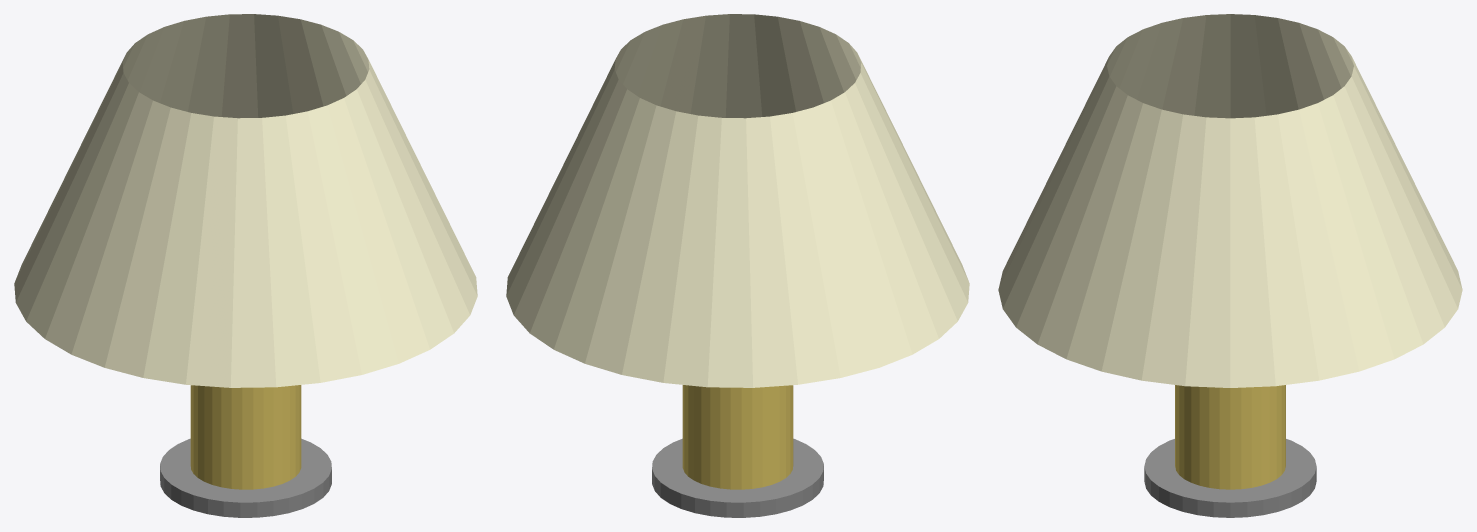
Rendered from lamp.glb.
3 views of the same model, side by side, from view 1: azimuth 30°, elevation 25°; view 2: azimuth 150°, elevation 25°; view 3: azimuth 270°, elevation 25° (orthographic).
Visible parts, largest first — view 1: Cylinder, Cylinder.001, Cylinder.002; view 2: Cylinder, Cylinder.001, Cylinder.002; view 3: Cylinder, Cylinder.001, Cylinder.002.
Boxes of the visible parts, box(x1,y1,x2,y2) form: Cylinder: box(14, 14, 477, 387); Cylinder.001: box(190, 385, 301, 489); Cylinder.002: box(160, 438, 331, 517); Cylinder: box(506, 14, 969, 387); Cylinder.001: box(682, 385, 793, 489); Cylinder.002: box(652, 438, 823, 517); Cylinder: box(998, 14, 1462, 387); Cylinder.001: box(1175, 385, 1285, 489); Cylinder.002: box(1144, 439, 1316, 517).
Bounding box in the file's own units: 3.76 × 3.71 × 3.76.
